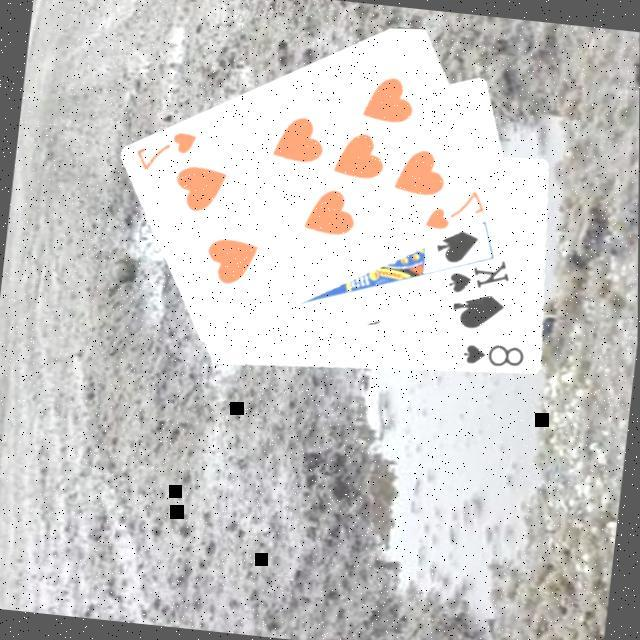7H: (128, 122, 200, 178), (419, 180, 488, 236)
8S: (457, 336, 528, 372)
KS: (442, 250, 514, 301)
